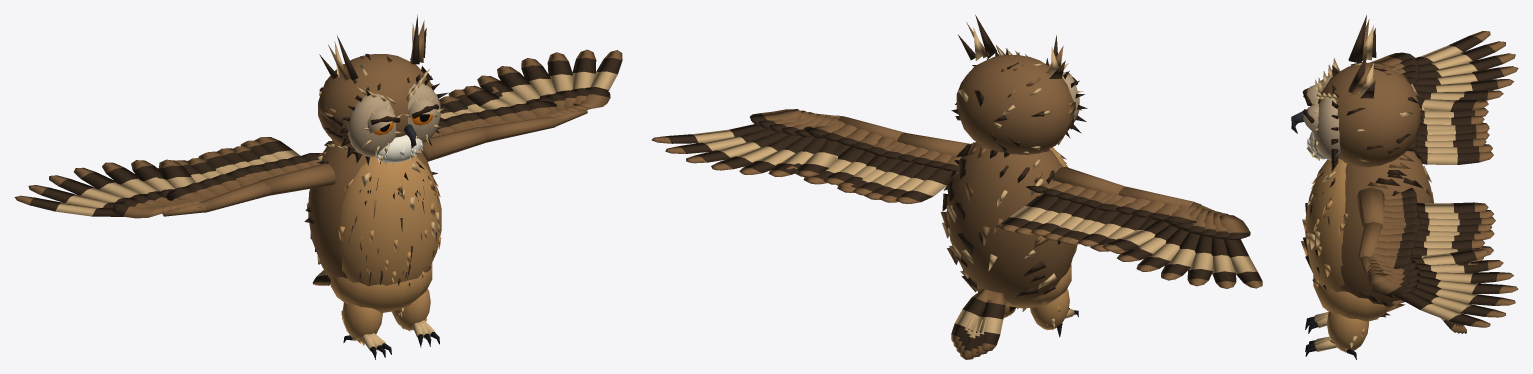
The model's file is owl.glb.
The picture shows the model from 3 angles, left to right: view 1: azimuth 30°, elevation 25°; view 2: azimuth 150°, elevation 25°; view 3: azimuth 270°, elevation 25°; orthographic projection.
Parts seen in each view (by area): view 1: owl_body, owl_head, owl_wing_r, owl_wing_r_fore, owl_wing_l_fore, owl_wing_l, owl_wing_r_hand, owl_wing_l_hand, owl_leg_r, owl_leg_l, owl_wing_r_p6, owl_wing_r_p5 (+13 smaller); view 2: owl_body, owl_head, owl_wing_l, owl_wing_r, owl_wing_r_fore, owl_wing_l_fore, owl_tail, owl_wing_r_hand, owl_wing_l_hand, owl_leg_r, owl_wing_r_p6, owl_wing_l_p4 (+12 smaller); view 3: owl_body, owl_head, owl_wing_l, owl_wing_l_fore, owl_wing_r, owl_wing_l_hand, owl_leg_l, owl_wing_r_fore, owl_wing_l_p6, owl_wing_r_p4, owl_wing_r_p3, owl_wing_l_p4 (+15 smaller).
Boxes of the visible parts, x1,y1,x2,y2 form: owl_body: (304, 140, 441, 312); owl_head: (318, 15, 450, 165); owl_wing_r: (207, 137, 336, 195); owl_wing_r_fore: (155, 152, 271, 212); owl_wing_l_fore: (438, 86, 561, 142); owl_wing_l: (421, 113, 487, 161); owl_wing_r_hand: (112, 187, 208, 218); owl_wing_l_hand: (522, 87, 610, 127); owl_leg_r: (341, 302, 391, 359); owl_leg_l: (392, 288, 439, 347); owl_wing_r_p6: (14, 195, 123, 216); owl_wing_r_p5: (28, 185, 116, 208); owl_body: (940, 142, 1077, 311); owl_head: (951, 15, 1087, 154); owl_wing_l: (837, 133, 969, 203); owl_wing_r: (999, 167, 1126, 243); owl_wing_r_fore: (1065, 187, 1201, 253); owl_wing_l_fore: (787, 115, 906, 188); owl_tail: (951, 289, 1005, 359); owl_wing_r_hand: (1162, 202, 1250, 240); owl_wing_l_hand: (749, 109, 844, 138); owl_leg_r: (1030, 288, 1078, 337); owl_wing_r_p6: (1224, 239, 1262, 288); owl_wing_l_p4: (686, 132, 789, 163); owl_body: (1301, 147, 1433, 321); owl_head: (1291, 15, 1422, 171); owl_wing_l: (1355, 187, 1495, 239); owl_wing_l_fore: (1358, 219, 1493, 268); owl_wing_r: (1410, 126, 1493, 164); owl_wing_l_hand: (1358, 252, 1420, 295); owl_leg_l: (1305, 311, 1368, 359); owl_wing_r_fore: (1409, 82, 1489, 129); owl_wing_l_p6: (1394, 292, 1490, 327); owl_wing_r_p4: (1419, 53, 1515, 78); owl_wing_r_p3: (1416, 66, 1518, 85); owl_wing_l_p4: (1417, 282, 1515, 305).
Bounding box in the file's own units: 1.39 × 0.6749 × 0.4511.
